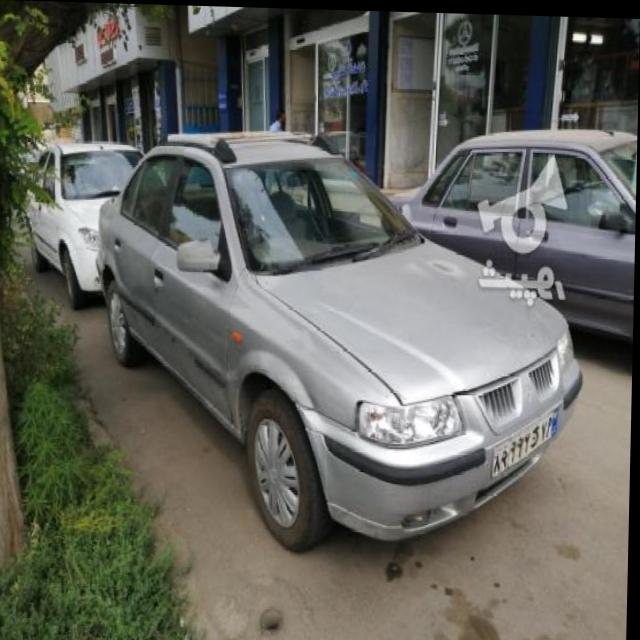licence: (492, 401, 563, 478)
